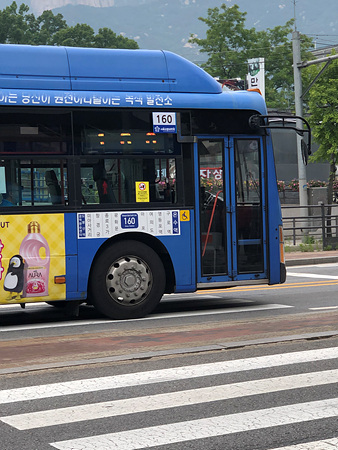entrance: (191, 127, 271, 283)
